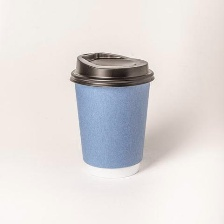paper_cup: (64, 46, 158, 181)
